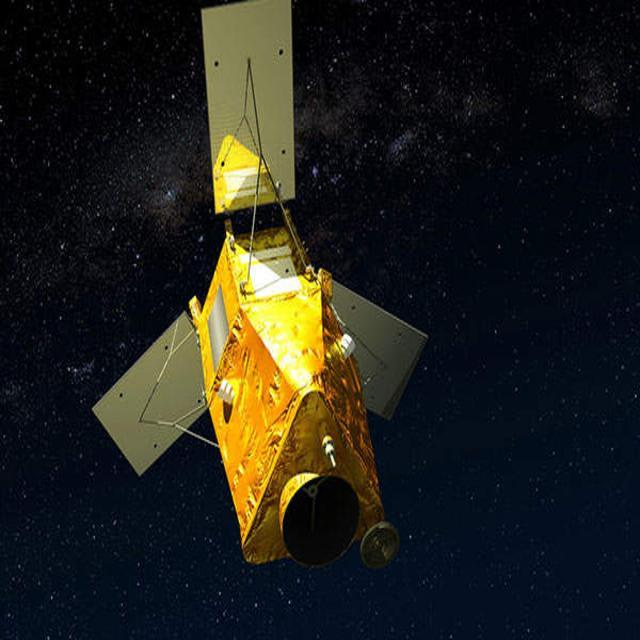sat: (86, 0, 432, 590)
